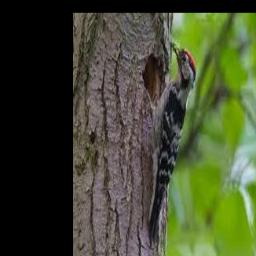Woodpecker: (143, 40, 196, 246)
